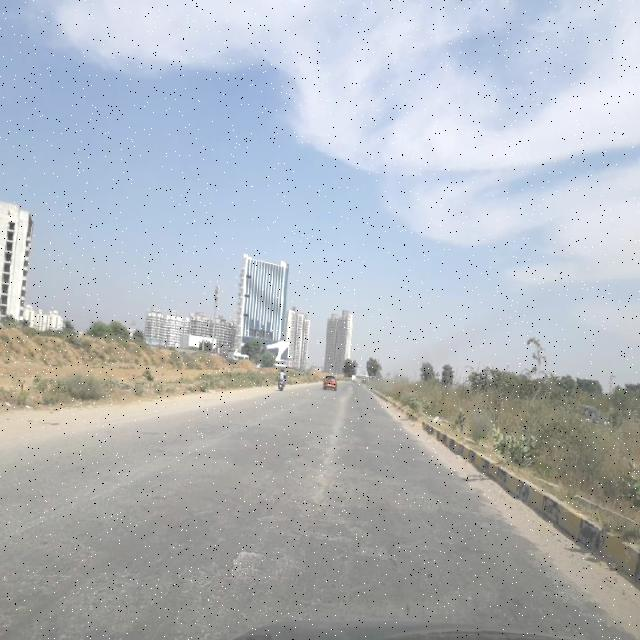D00: (314, 404, 348, 510)
D40: (302, 458, 401, 562), (188, 524, 286, 628)
